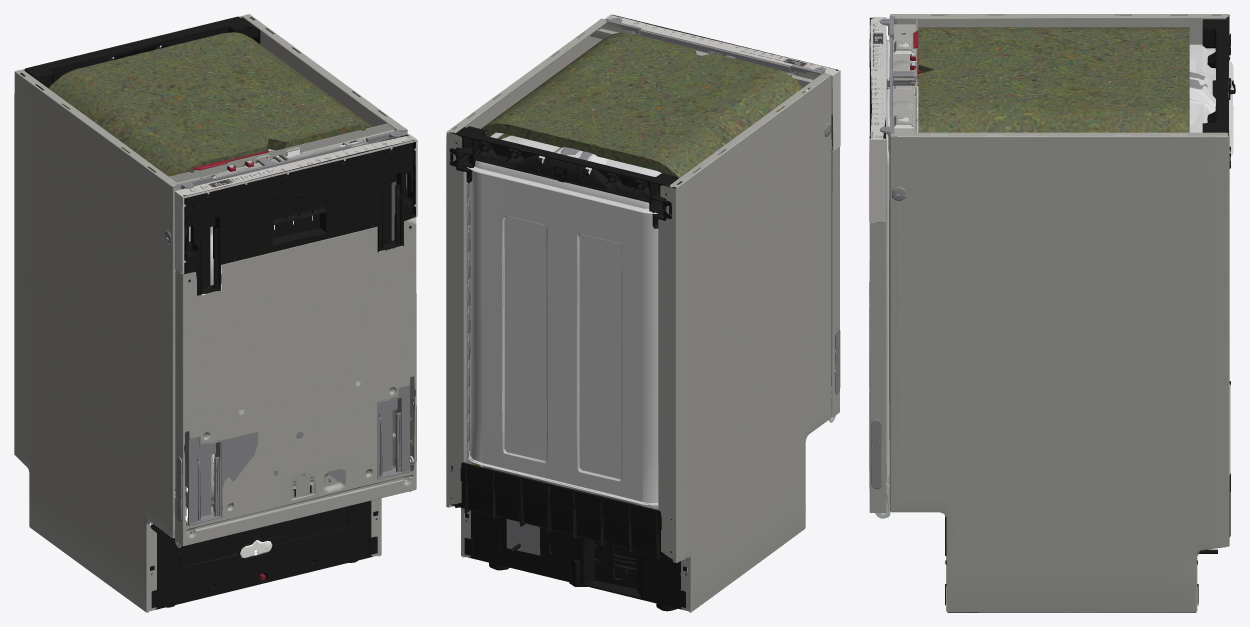
The model's file is finputsad_zmywarka_do_zabudowy_70475622.glb.
3 views of the same model, side by side, from view 1: azimuth 30°, elevation 25°; view 2: azimuth 150°, elevation 25°; view 3: azimuth 270°, elevation 25° (orthographic). The views are drawn at different scales.
Visible parts, largest first — view 1: finputsad_zmywarka_do_zabudowy_70475622; view 2: finputsad_zmywarka_do_zabudowy_70475622; view 3: finputsad_zmywarka_do_zabudowy_70475622.
Part boxes in pixels (box(x1,y1,x2,y2)): finputsad_zmywarka_do_zabudowy_70475622: box(14, 14, 417, 612); finputsad_zmywarka_do_zabudowy_70475622: box(446, 14, 840, 612); finputsad_zmywarka_do_zabudowy_70475622: box(869, 14, 1235, 612).
Size of the model in its own units: 0.4496 by 0.8275 by 0.5605.
Materials: 2 (2 with a texture image).
